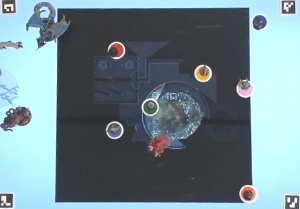blue: (251, 14, 270, 32)
green: (140, 97, 164, 117)
orange: (237, 181, 259, 203)
pink: (235, 79, 255, 98)
red: (108, 39, 126, 58)
violet: (105, 117, 126, 141)
yellow: (193, 60, 215, 85)
